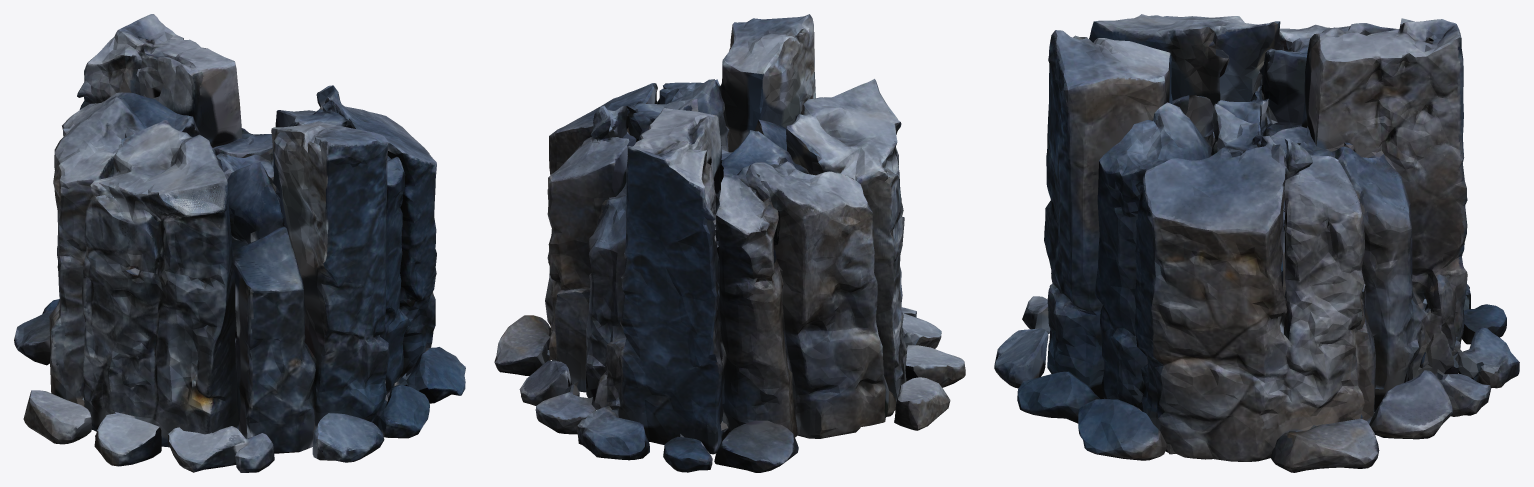
The model's file is shadowlands_shards.glb.
3 renders of one model, left to right at view 1: azimuth 30°, elevation 25°; view 2: azimuth 150°, elevation 25°; view 3: azimuth 270°, elevation 25°, orthographic. The views are drawn at different scales.
Visible parts, largest first — view 1: temp_mesh.ply; view 2: temp_mesh.ply; view 3: temp_mesh.ply.
Part boxes in pixels (x1,y1,x2,y2): temp_mesh.ply: [14, 14, 465, 472]; temp_mesh.ply: [494, 14, 965, 472]; temp_mesh.ply: [994, 14, 1519, 472].
Bounding box in the file's own units: 1.96 × 1.41 × 1.97.
Materials: 1 (1 with a texture image).
